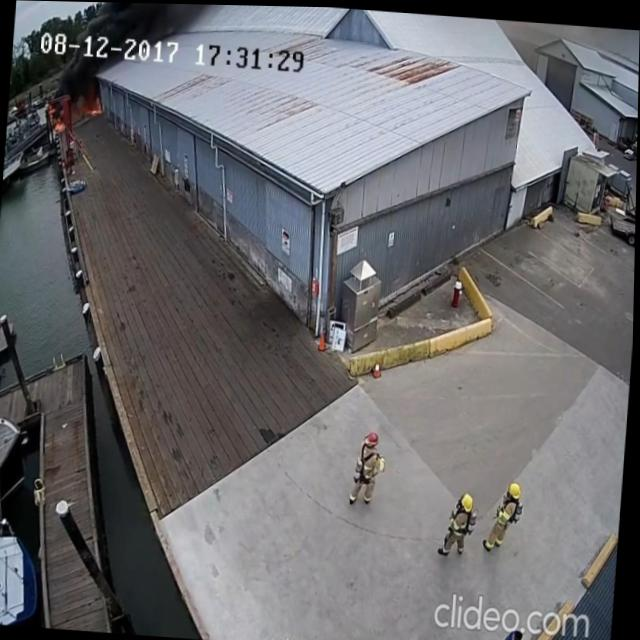fire: (47, 104, 67, 132), (89, 97, 105, 118)
